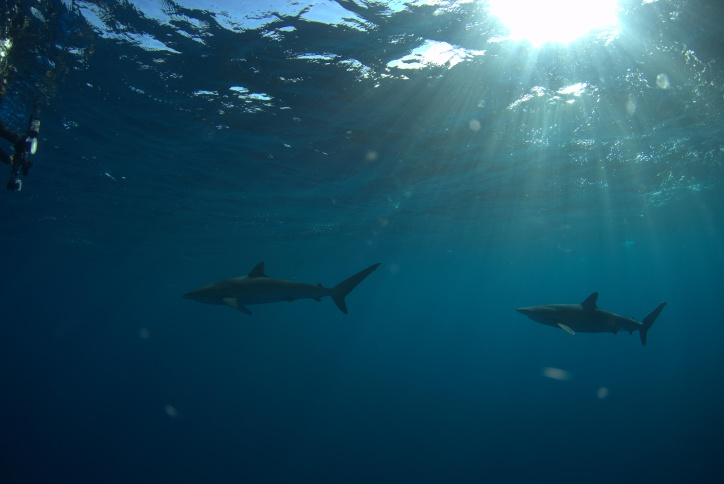Sedoso: (168, 252, 389, 330)
